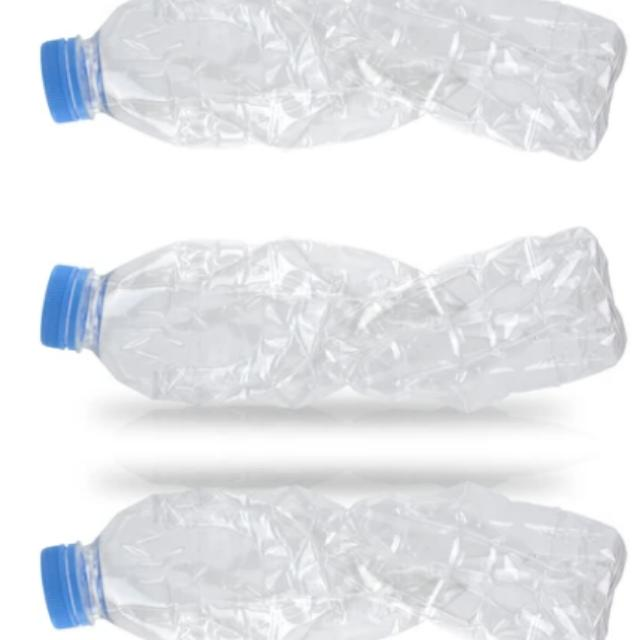Plastic: (31, 199, 635, 419), (31, 0, 635, 187), (31, 474, 635, 640)
